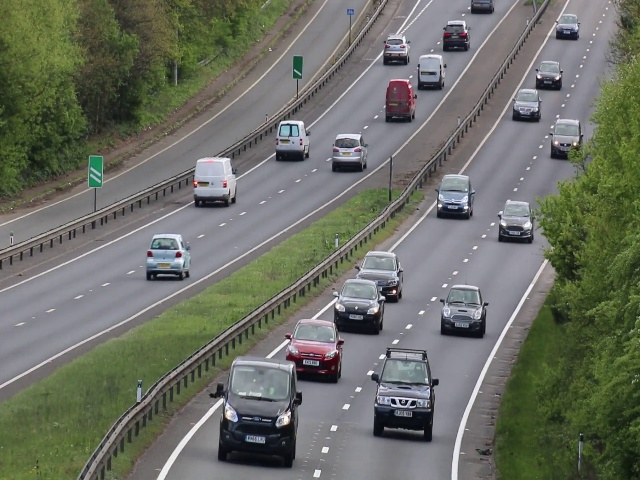car: (220, 358, 296, 468), (369, 348, 438, 442), (284, 316, 343, 380), (332, 274, 385, 334), (191, 154, 240, 206), (443, 277, 484, 336), (142, 233, 191, 281), (436, 171, 473, 221), (359, 251, 403, 290), (327, 133, 371, 170), (499, 197, 533, 243), (384, 78, 418, 124), (276, 118, 310, 163), (550, 117, 581, 159), (416, 51, 448, 87), (512, 87, 539, 124), (441, 17, 472, 49), (534, 55, 562, 87), (385, 32, 409, 63), (554, 14, 580, 42)
